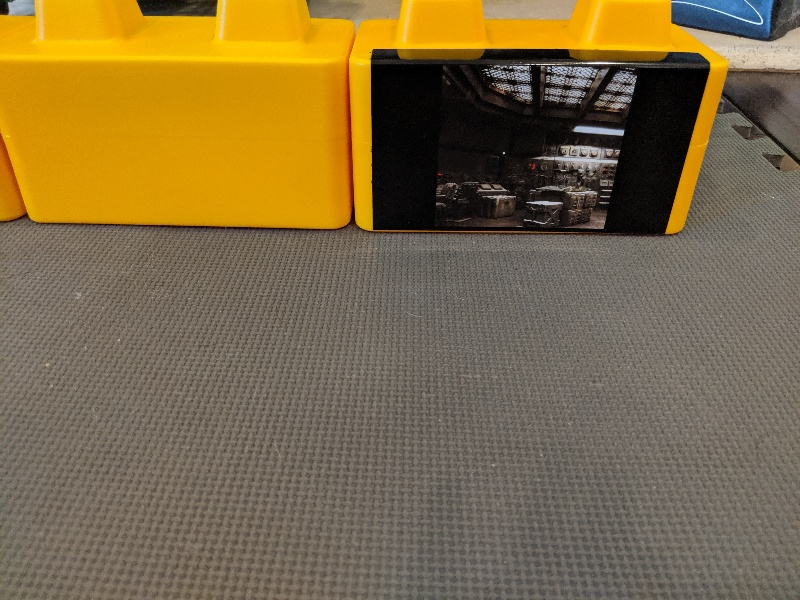Skystone: (362, 36, 716, 242)
